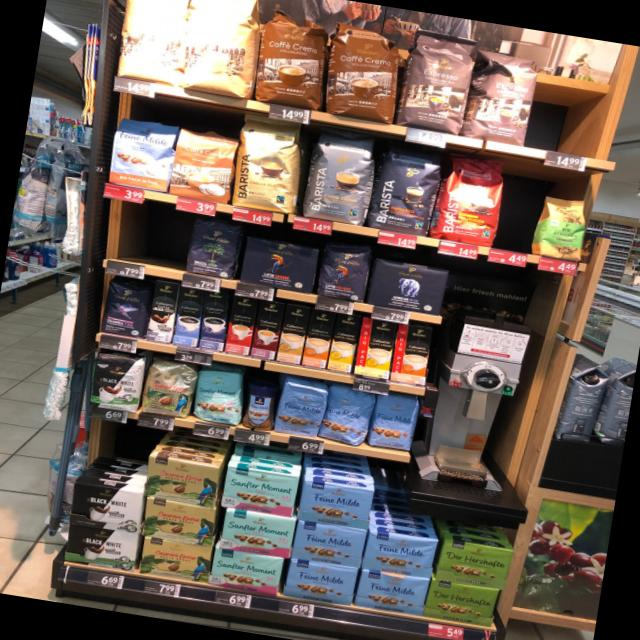AB Gemahlen: (368, 258, 448, 316)
Athiopien Bohne: (532, 192, 592, 264)
BM Bohne: (183, 214, 244, 280)
BW Bohne: (86, 350, 148, 414)
BW Gemahlen: (68, 481, 148, 534), (64, 523, 142, 574)
Barista CB: (228, 112, 312, 217)
Barista CC: (298, 122, 381, 228)
Barista Espresso: (369, 140, 444, 238)
Barista Kolumbien: (432, 150, 510, 250)
C Fino Bohne: (98, 278, 154, 340)
CC Mild: (178, 0, 268, 100), (112, 0, 196, 90)
CC Vollmundig: (168, 124, 240, 205)
CC Vollmundig 36 Pads: (316, 17, 408, 126), (248, 4, 334, 113)
Colombia BB Bohne: (140, 357, 200, 421)
Colombia BB Gemahlen: (143, 456, 222, 510), (140, 496, 220, 548), (136, 536, 214, 584)
Empty Shelf: (528, 48, 630, 162), (102, 199, 188, 270), (494, 184, 544, 254)
FM 36 Pads: (106, 114, 180, 194)
FM Bohne: (298, 479, 377, 531), (292, 520, 368, 570), (364, 529, 438, 579), (320, 384, 377, 448), (354, 569, 430, 617), (284, 558, 360, 606), (274, 378, 329, 440), (370, 394, 420, 452)
FM Instant: (240, 382, 279, 432)
Herzhatfe Mundig: (439, 538, 513, 591), (426, 579, 499, 629)
LG Bohne: (315, 238, 375, 305)
LG Gemahlen: (238, 234, 320, 296)
SM Bohne: (191, 366, 248, 426)
SM Gemahlen: (220, 463, 300, 517), (218, 507, 298, 560), (208, 548, 284, 598)
Simo CCMild: (354, 316, 397, 381)
Simo CCMild bigpack: (328, 312, 359, 373)
Simo CCVollmundig: (389, 324, 434, 387)
Simo CCVollmundig bigpack: (302, 308, 334, 369)
Simo Decaff: (278, 304, 310, 366)
Simo Es Brazil: (225, 294, 258, 356)
Simo Es Caramel: (250, 300, 284, 360)
Simo Es Elegant: (147, 280, 180, 344)
Simo Es Kraft: (197, 290, 232, 352)
Simo Es Vanilla: (172, 286, 205, 348)
